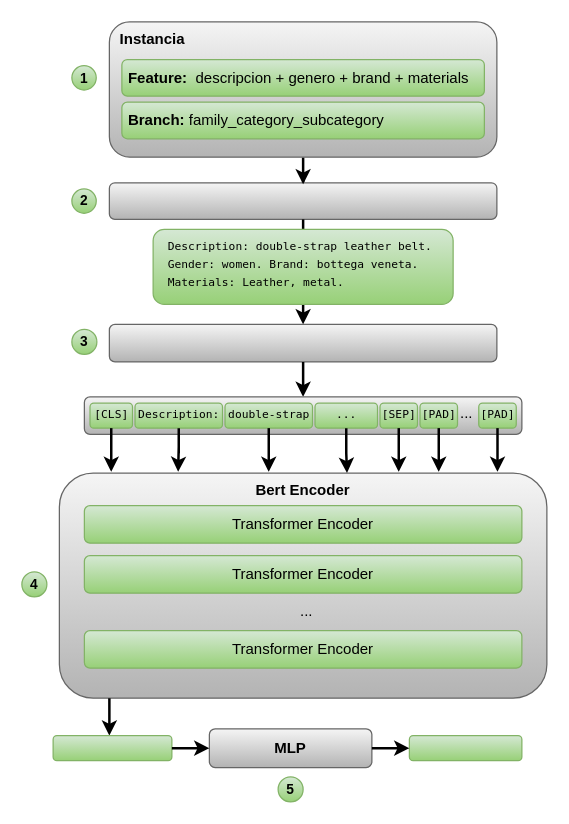
Some shapes in this 569 by 824 pixel diagram are drawn without their labels. The shapes that lost their labels are listed below. From the top down, each one's centre as x and y in pixels, then its label:
At (302,200): "Sample de categorias con mas de N productos".
At (302,342): "Bert Tokenizer".
At (112,747): "CLS output emb".
At (465,747): "Branch".
